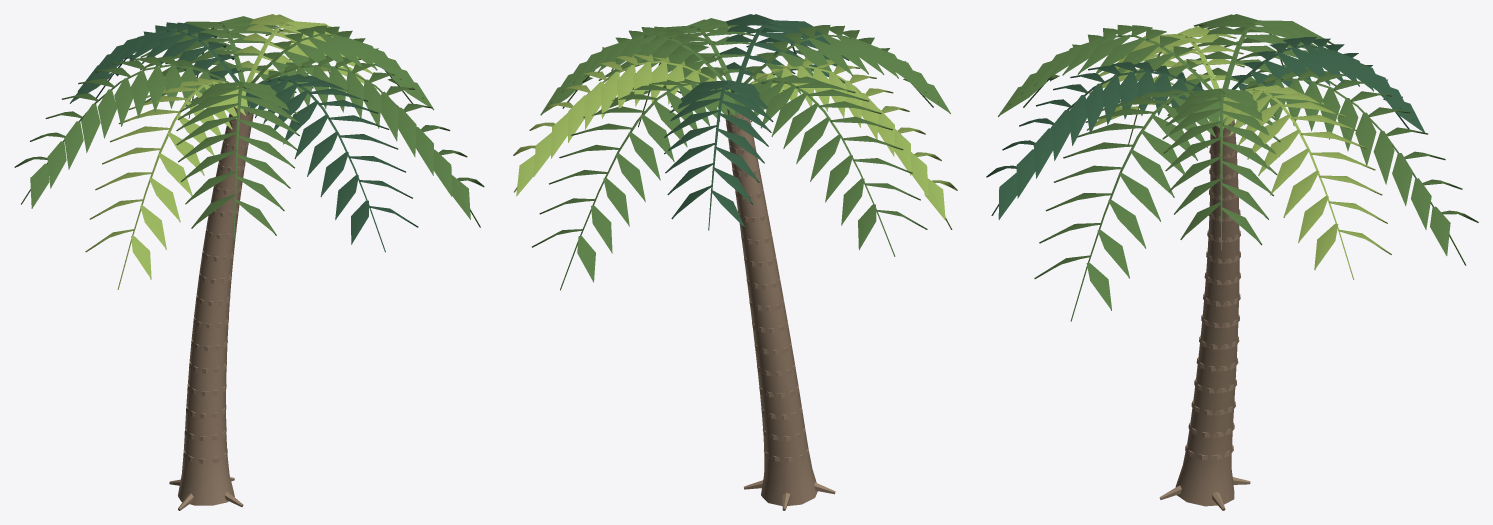
File: tree_coastal_palm_young.glb
3 views of the same model, side by side, from view 1: azimuth 30°, elevation 25°; view 2: azimuth 150°, elevation 25°; view 3: azimuth 270°, elevation 25° (orthographic). The views are drawn at different scales.
Visible parts, largest first — view 1: tree_coastal_palm_young_LOD0; view 2: tree_coastal_palm_young_LOD0; view 3: tree_coastal_palm_young_LOD0.
Boxes of the visible parts, x1,y1,x2,y2 form: tree_coastal_palm_young_LOD0: [14, 14, 484, 510]; tree_coastal_palm_young_LOD0: [513, 14, 957, 510]; tree_coastal_palm_young_LOD0: [986, 14, 1478, 510].
Size of what is drawn, in the model's own units: 5.47 by 5.76 by 5.59.
